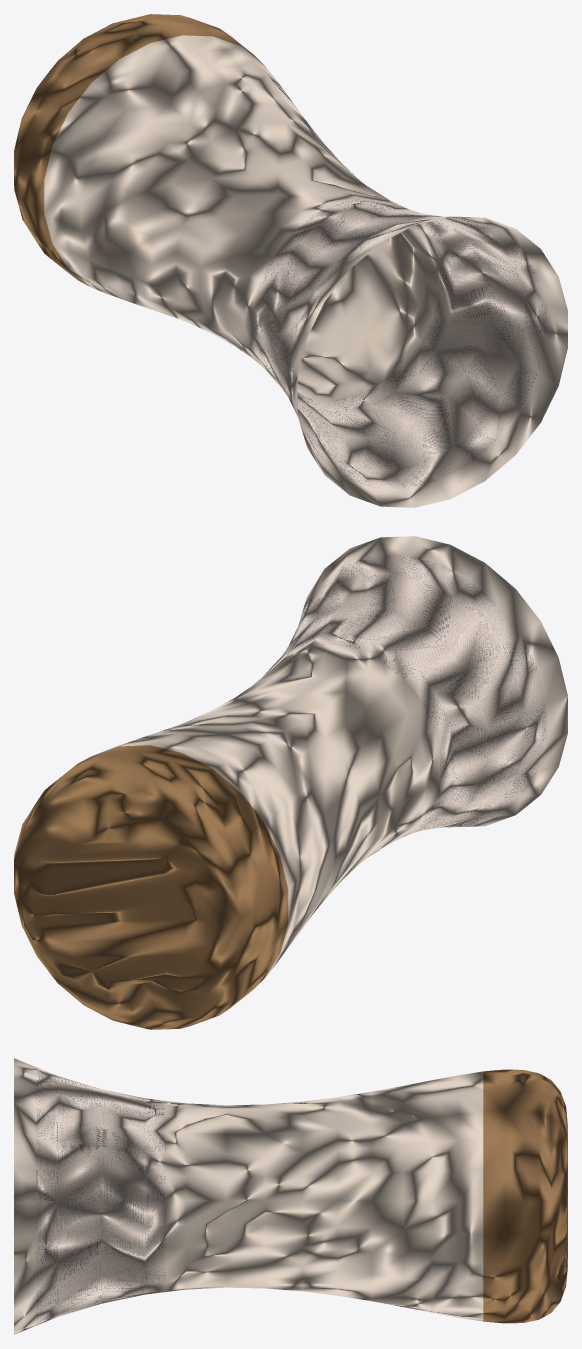
The model's file is model_align.obj.
3 renders of one model, top to bottom at view 1: azimuth 30°, elevation 25°; view 2: azimuth 150°, elevation 25°; view 3: azimuth 270°, elevation 25°, orthographic. The views are drawn at different scales.
Size of the model in its own units: 0.0708 by 0.0708 by 0.1428.
